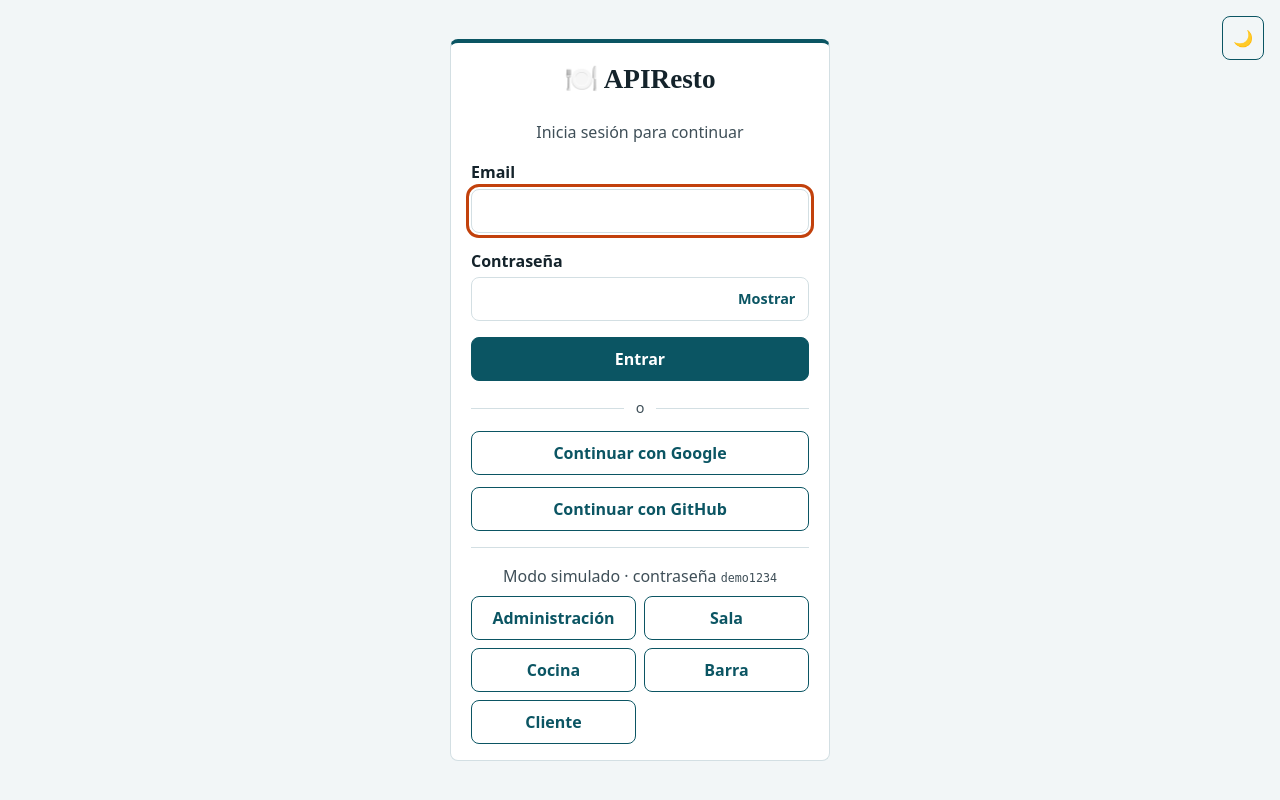
Test: login y navegación por rol (modo simulado) › al iniciar sesión, cocina@restoapi.dev entra en Inicio (Hola, Cocina Demo)
Type "cocina@restoapi.dev" into the field labelled "Email" at point(640, 211), box 471,189 -> 809,233
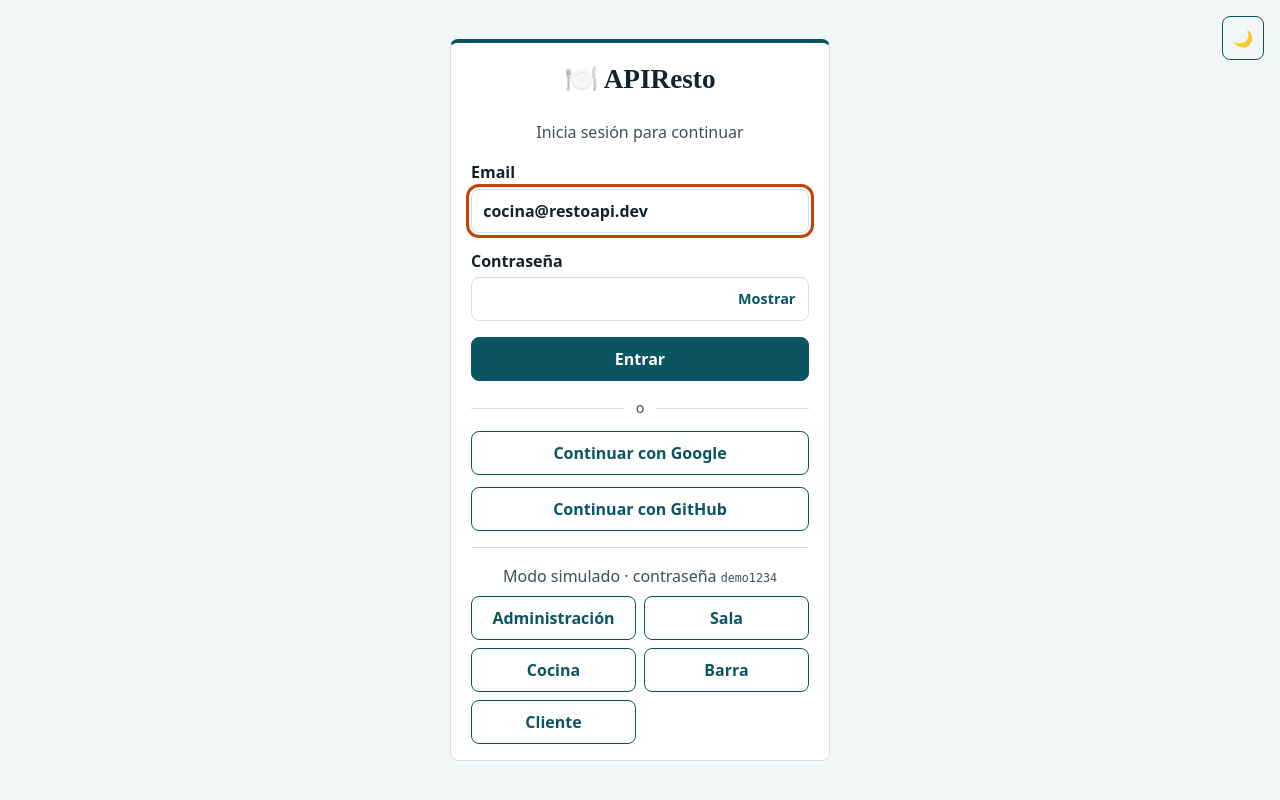
Type "demo1234" into the password field labelled "Contraseña" at point(640, 299), box 471,277 -> 809,321
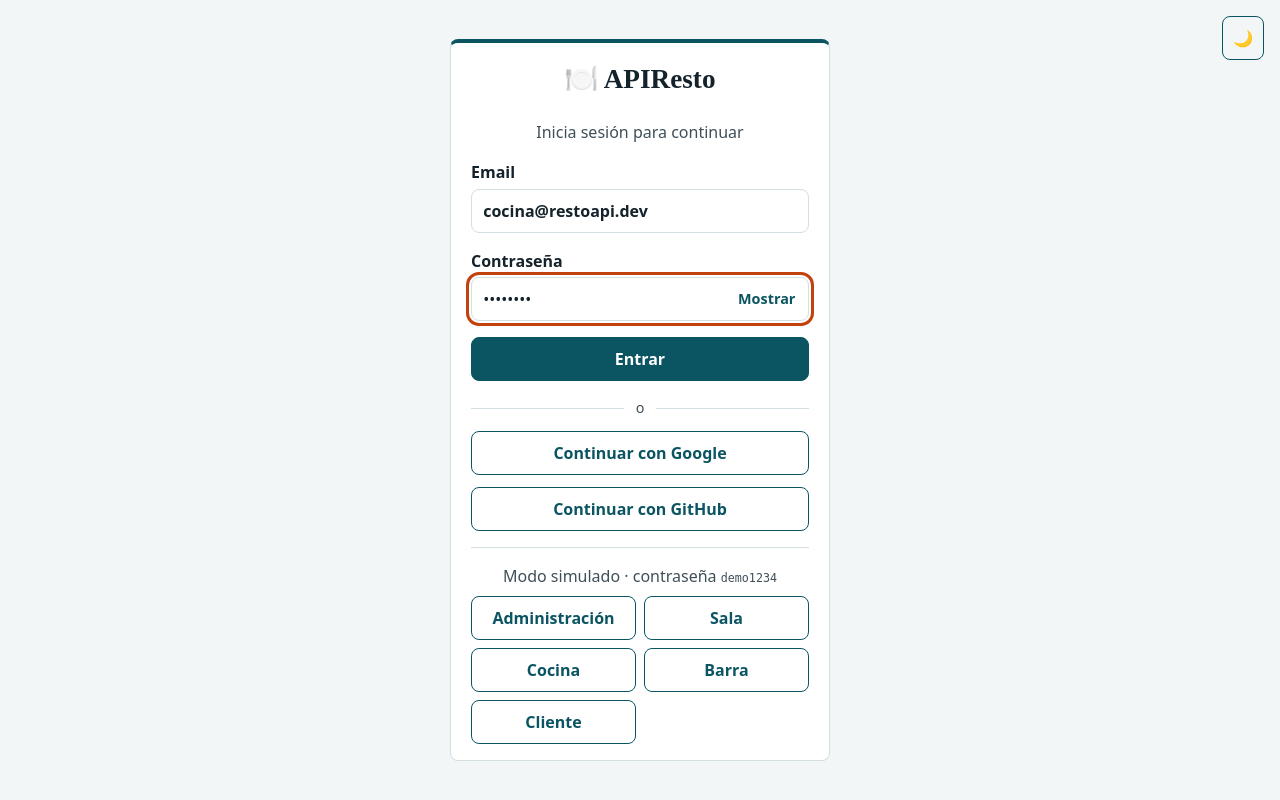
Click the button "Entrar" at point(640, 359), box 471,337 -> 809,381
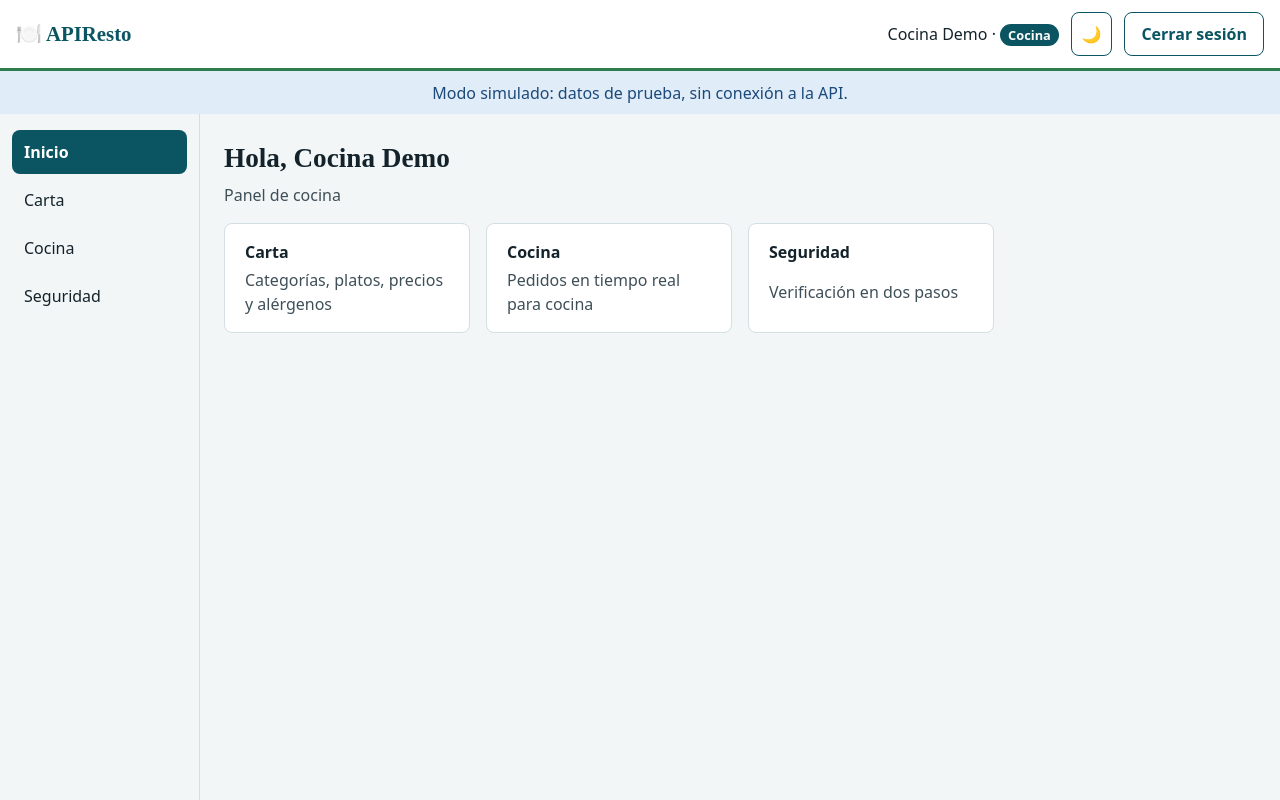
Expected: the heading "Hola, Cocina Demo" is shown, 224,143 -> 450,173
